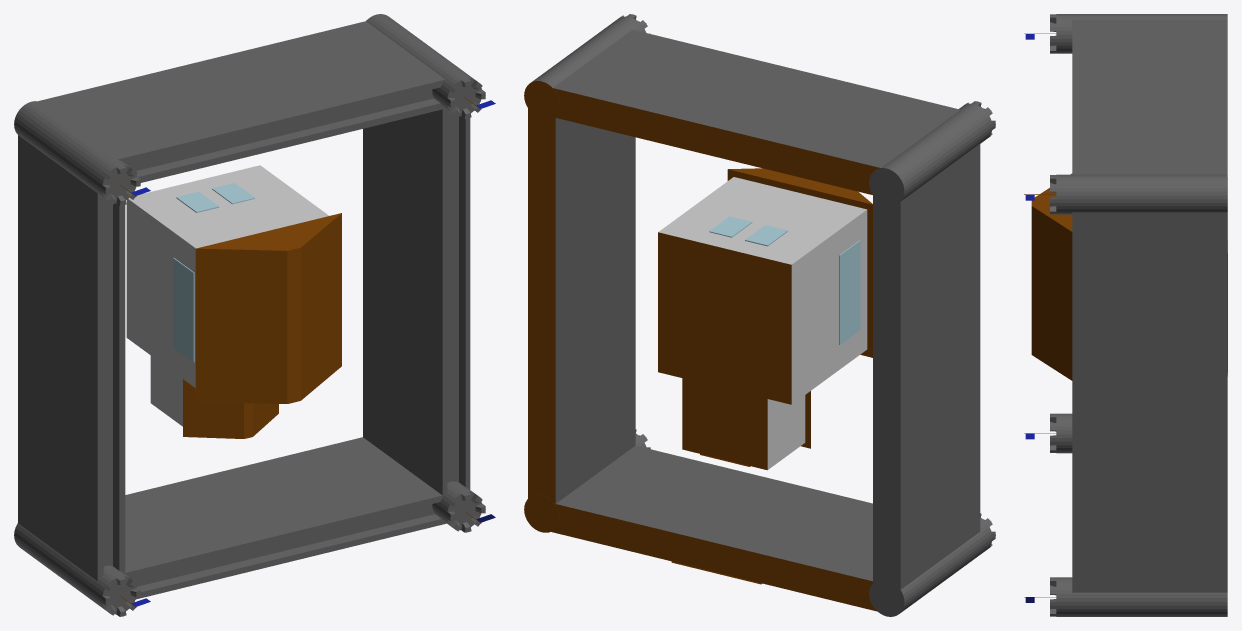
File: ТХ_4Origin.fbx
3 renders of one model, left to right at view 1: azimuth 30°, elevation 25°; view 2: azimuth 150°, elevation 25°; view 3: azimuth 270°, elevation 25°, orthographic. The views are drawn at different scales.
Visible parts, largest first — view 1: ТХ_4; view 2: ТХ_4; view 3: ТХ_4.
Boxes of the visible parts, x1,y1,x2,y2 form: ТХ_4: (14, 14, 495, 616); ТХ_4: (524, 14, 995, 616); ТХ_4: (1024, 14, 1227, 616).
Size of the model in its own units: 5.19 by 5.88 by 2.48.
